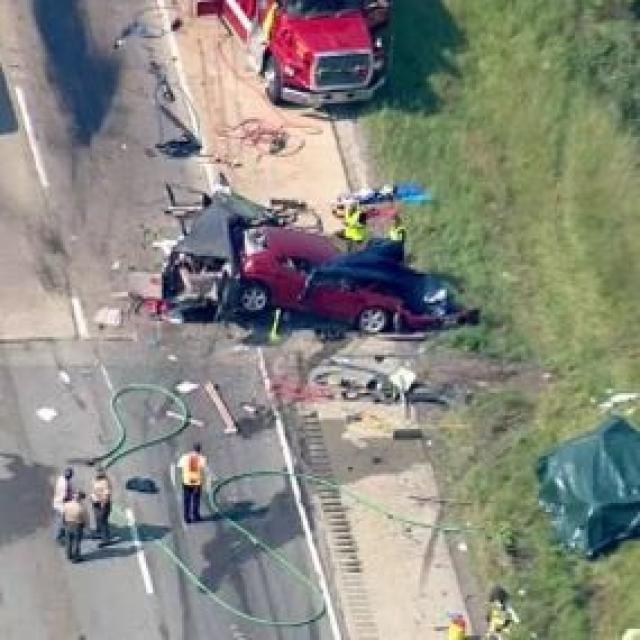traffic_incident: (175, 186, 465, 342)
